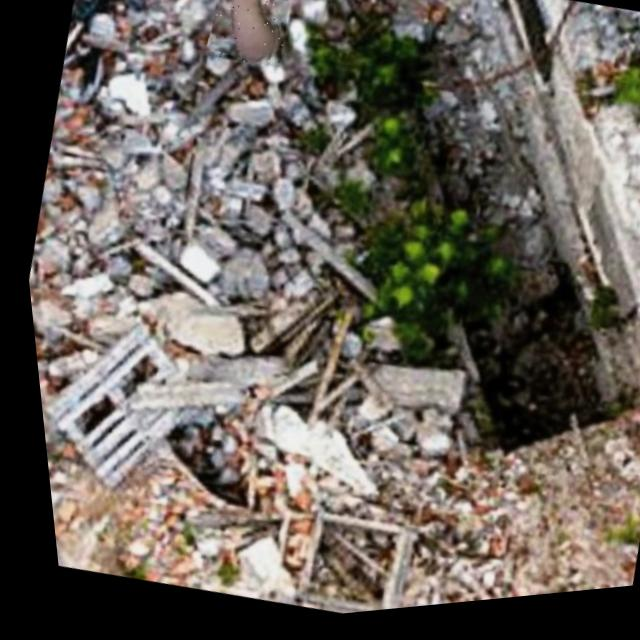Person in Rubble: (199, 0, 305, 78)
